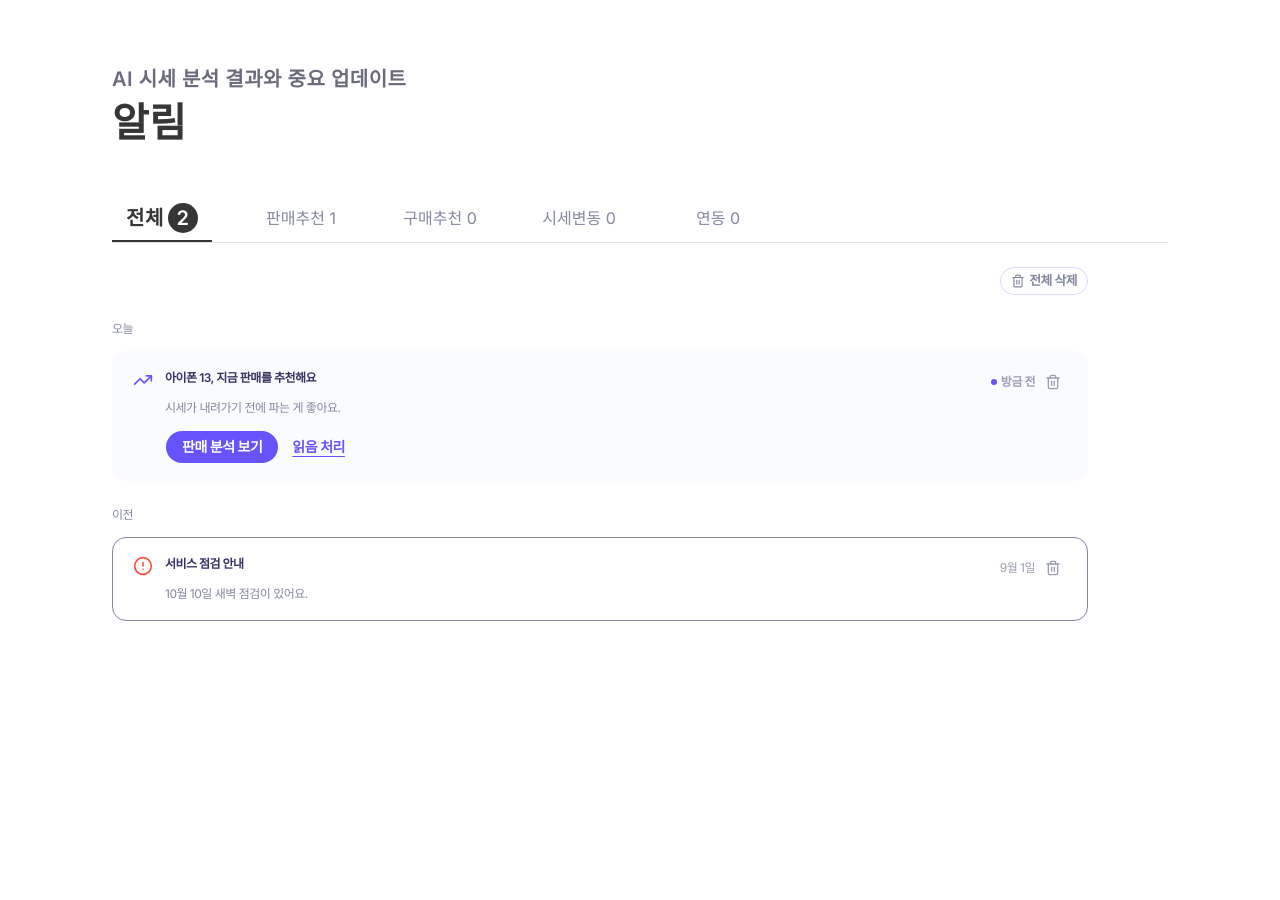
Test: 전체 탭에서 확인을 거쳐 알림을 모두 삭제하고 목록을 다시 불러온다
Click the button "전체 삭제": (1044, 281) [1000,267,1088,295]
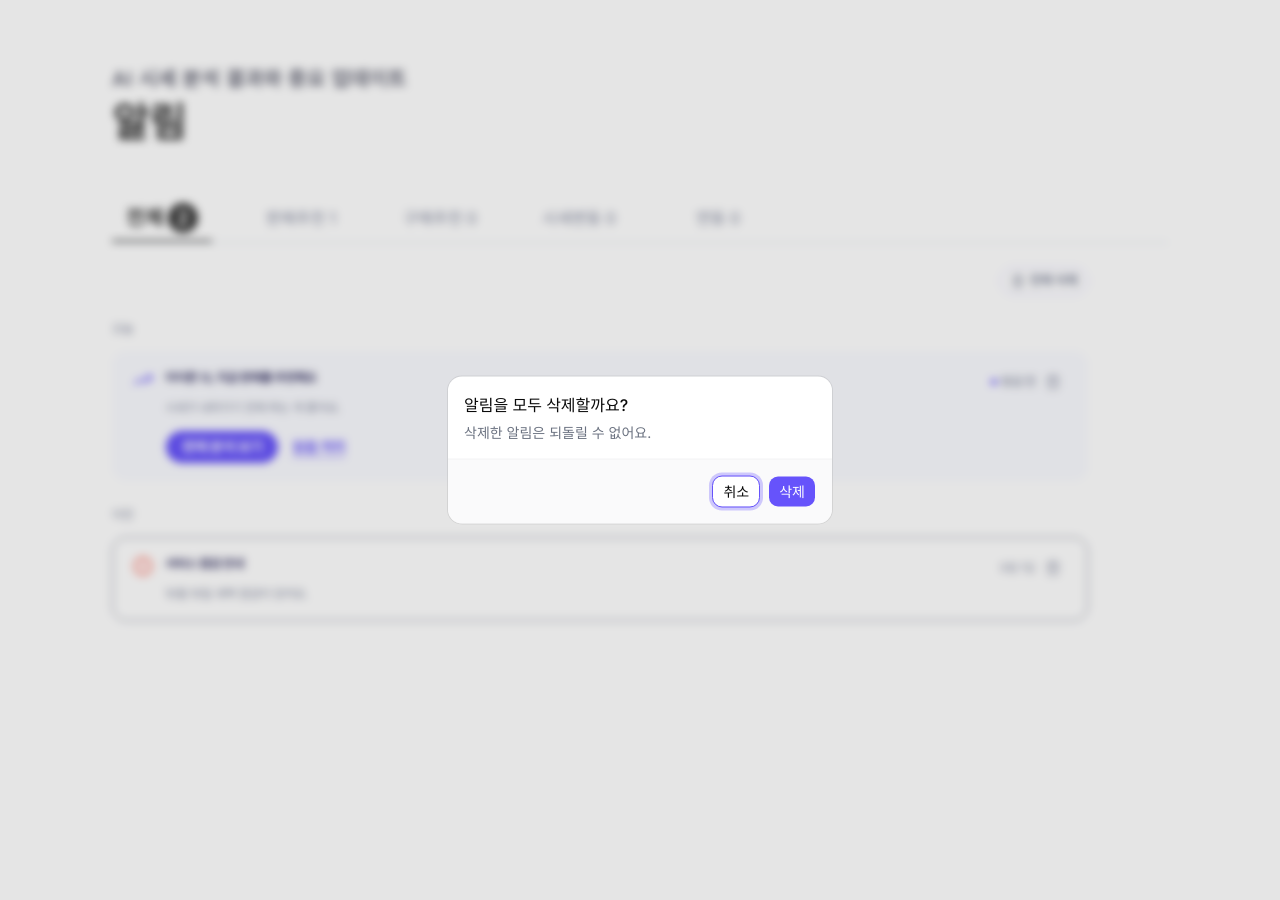
Click the button "삭제": (792, 492) [768,476,816,508]
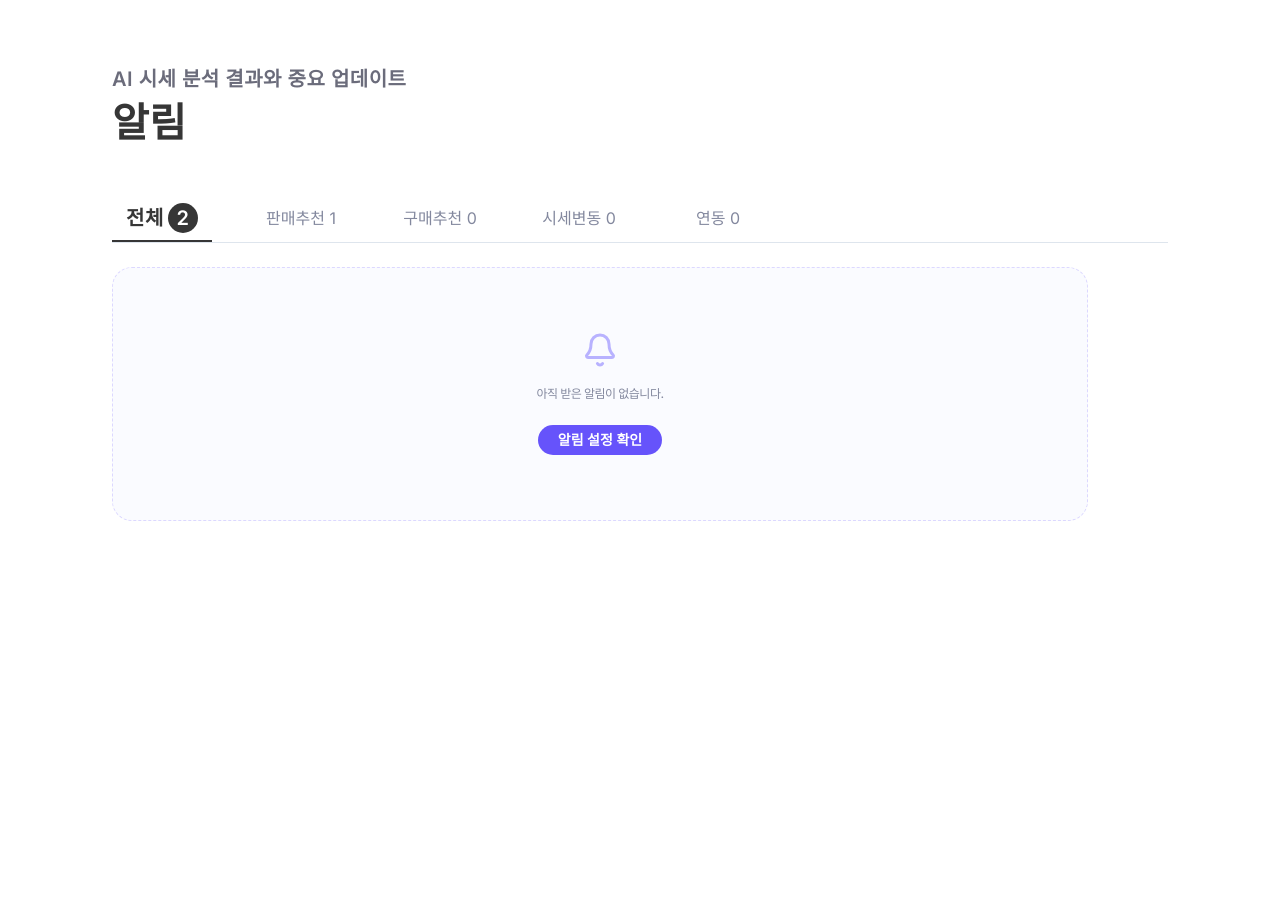
Expected: the text "아직 받은 알림이 없습니다." is shown, [536,384,664,404]
Expected: the dialog is gone
Expected: the button "전체 삭제" is gone
